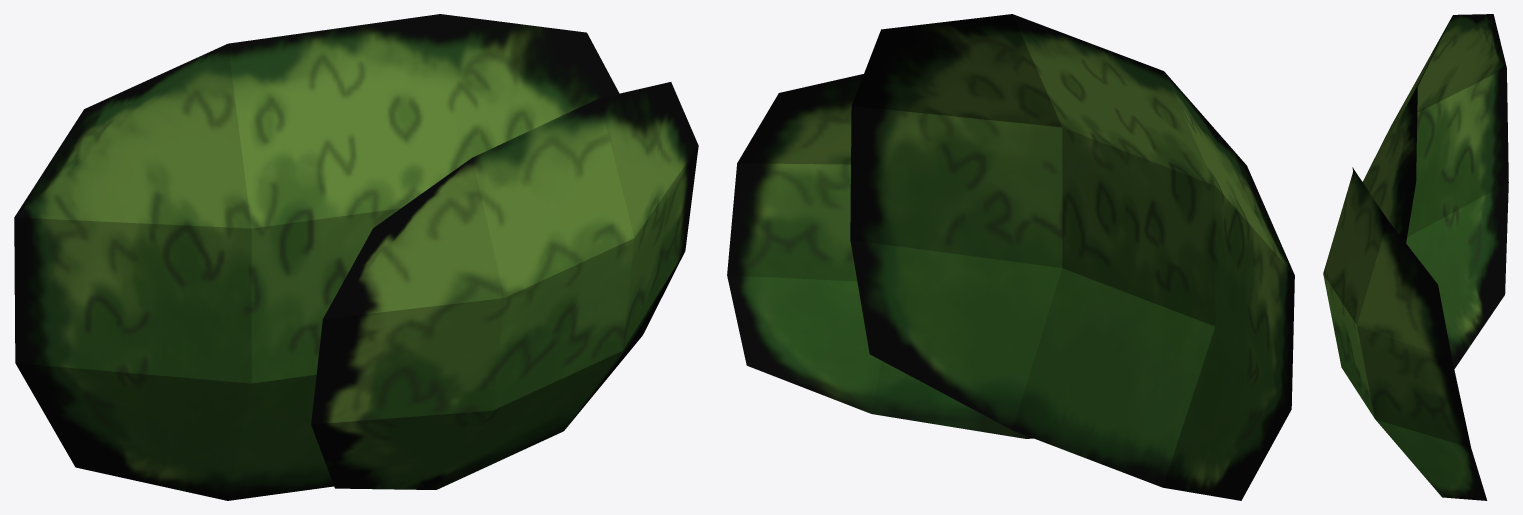
Rendered from bush6.fbx.
The picture shows the model from 3 angles, left to right: view 1: azimuth 30°, elevation 25°; view 2: azimuth 150°, elevation 25°; view 3: azimuth 270°, elevation 25°; orthographic projection. The views are drawn at different scales.
Visible parts, largest first — view 1: Plane.010, Plane.011; view 2: Plane.010, Plane.011; view 3: Plane.010, Plane.011.
Part boxes in pixels (left/top/right/bottom): Plane.010: left=14, top=14, right=619, bottom=500; Plane.011: left=311, top=82, right=698, bottom=489; Plane.010: left=850, top=14, right=1294, bottom=500; Plane.011: left=727, top=74, right=1033, bottom=438; Plane.010: left=1362, top=14, right=1508, bottom=368; Plane.011: left=1323, top=167, right=1487, bottom=500.
Bounding box in the file's own units: 128 × 88.22 × 40.84.
